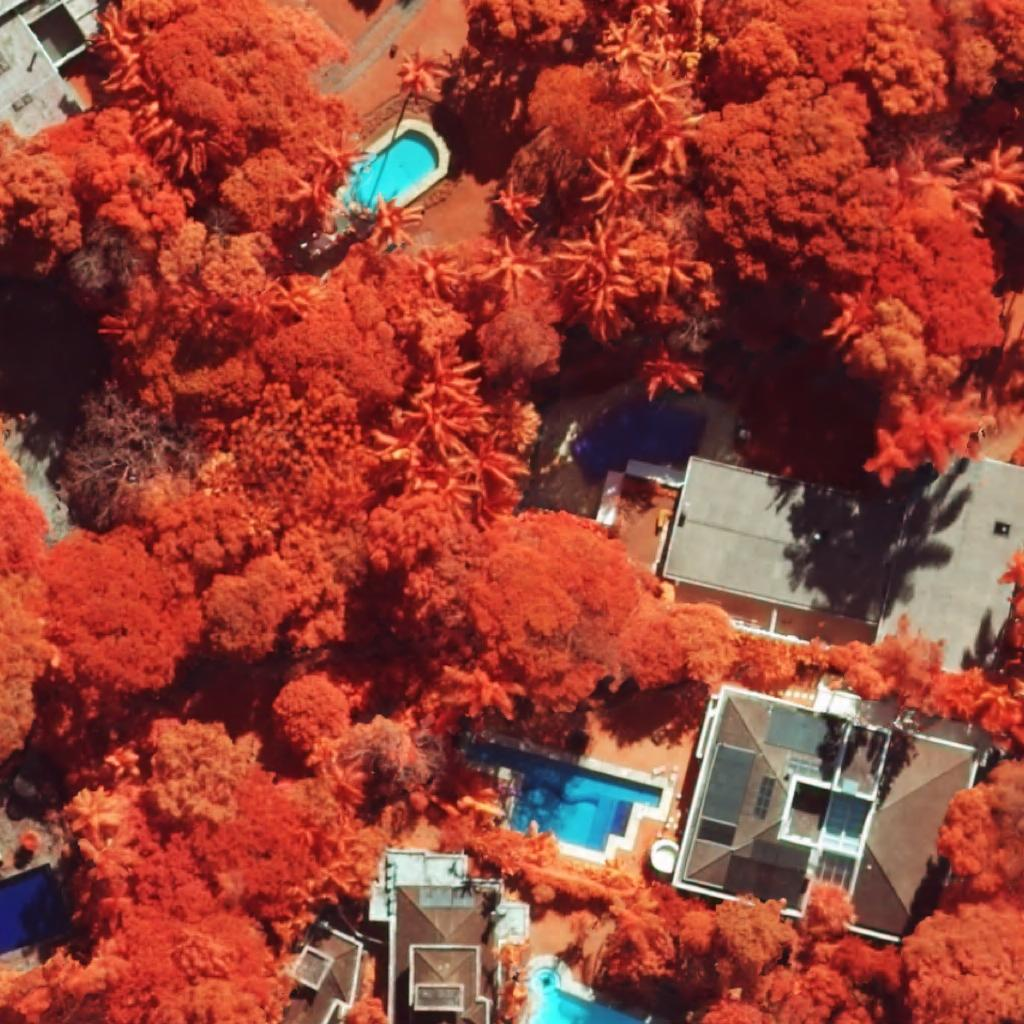pool: (467, 743, 663, 853), (570, 403, 707, 484), (351, 129, 439, 212), (531, 965, 649, 1024), (0, 863, 74, 956)
